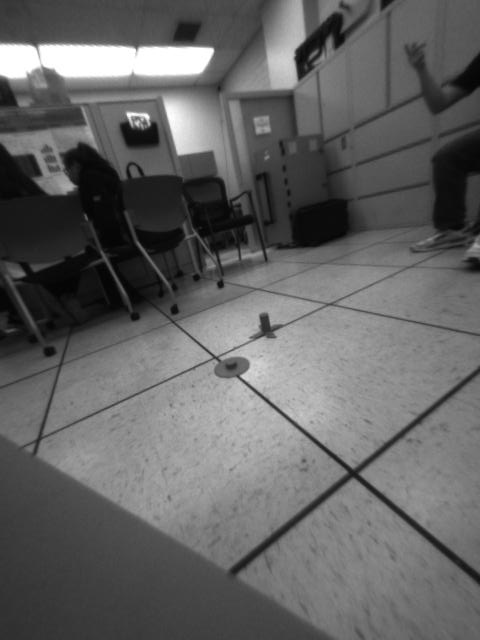X: (248, 309, 285, 343)
